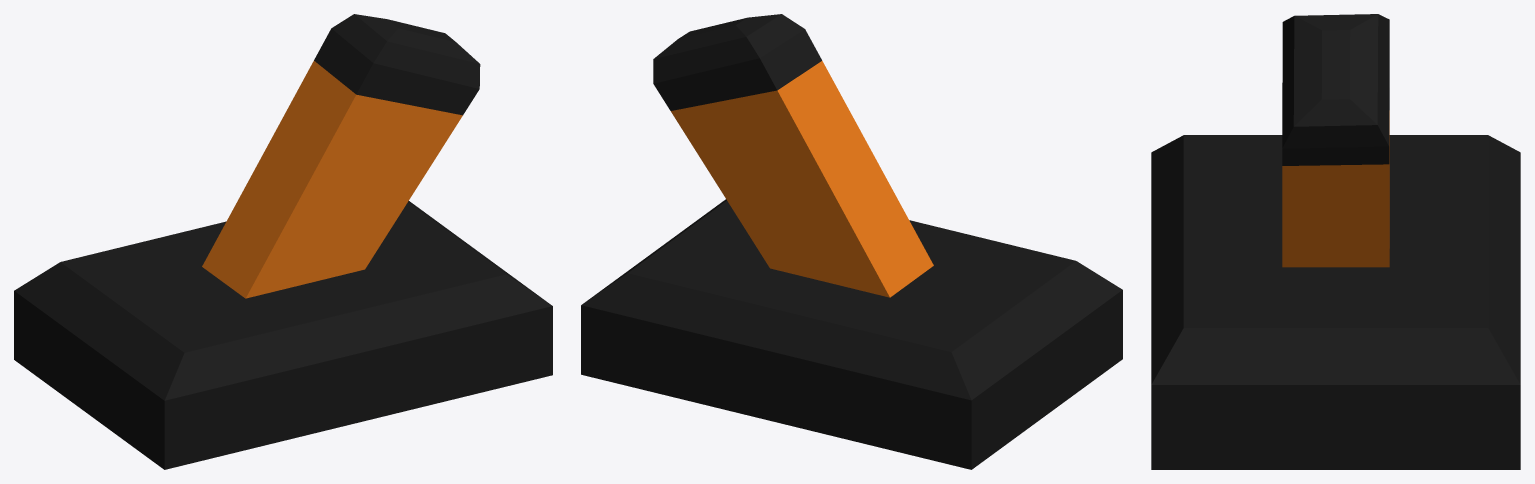
File: Alavanca.glb
The picture shows the model from 3 angles, left to right: view 1: azimuth 30°, elevation 25°; view 2: azimuth 150°, elevation 25°; view 3: azimuth 270°, elevation 25°; orthographic projection. The views are drawn at different scales.
Parts seen in each view (by area): view 1: Cube.001; view 2: Cube.001; view 3: Cube.001.
Boxes of the visible parts, x1,y1,x2,y2 form: Cube.001: (14,14,552,469); Cube.001: (581,14,1122,469); Cube.001: (1151,14,1520,469).
Bounding box in the file's own units: 0.3972 × 0.3124 × 0.2666.
